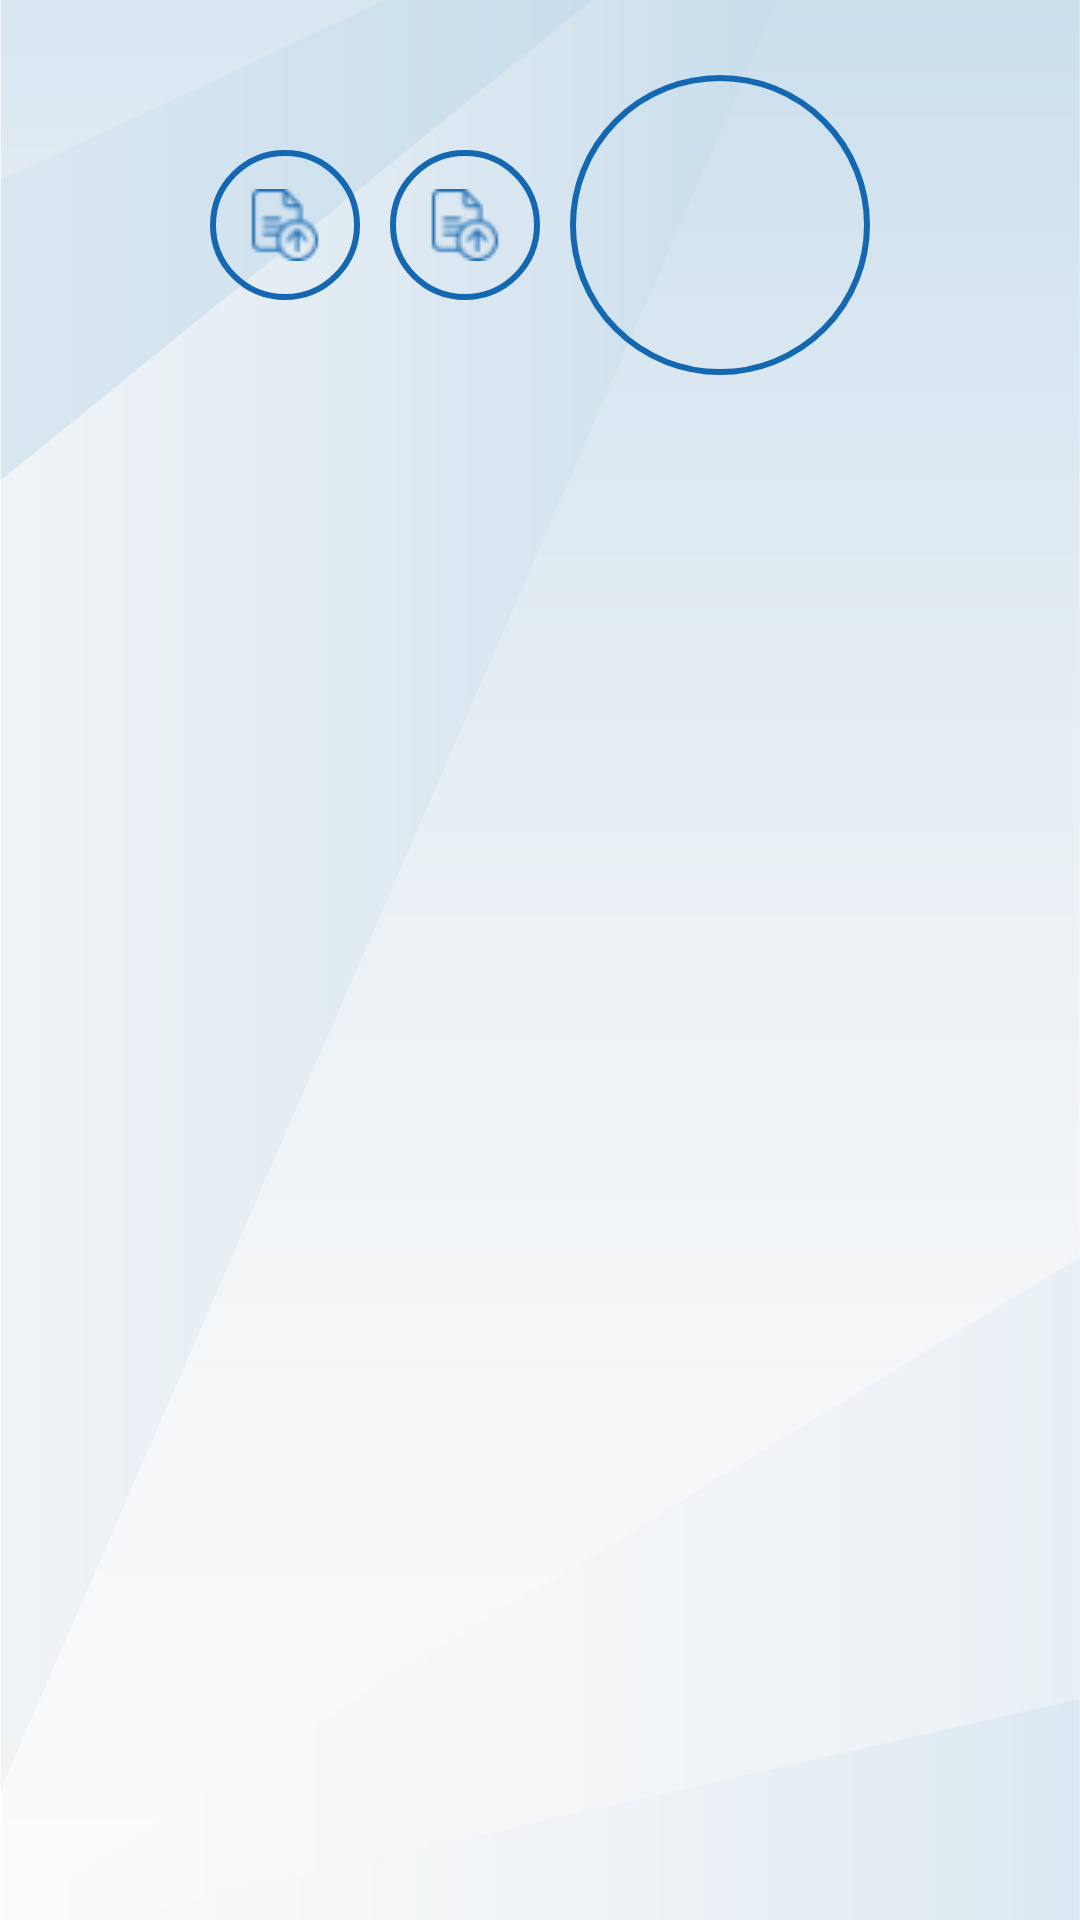

Icons on this 1080×1920 Android screen, each with its box as (x1, y1, x2, y2):
upload file: (210, 150, 360, 300), (390, 150, 540, 300)
